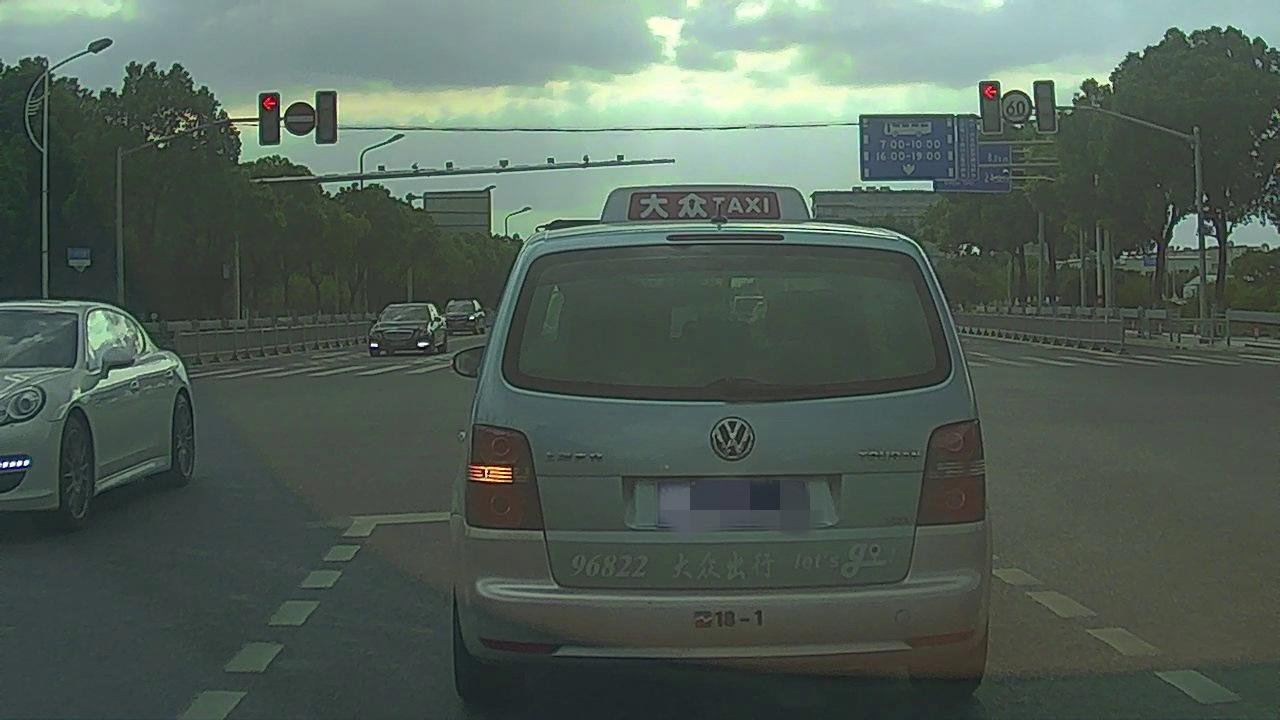traffic_light: (1035, 81, 1057, 131), (982, 81, 1003, 132), (259, 92, 279, 143), (318, 92, 336, 142)
